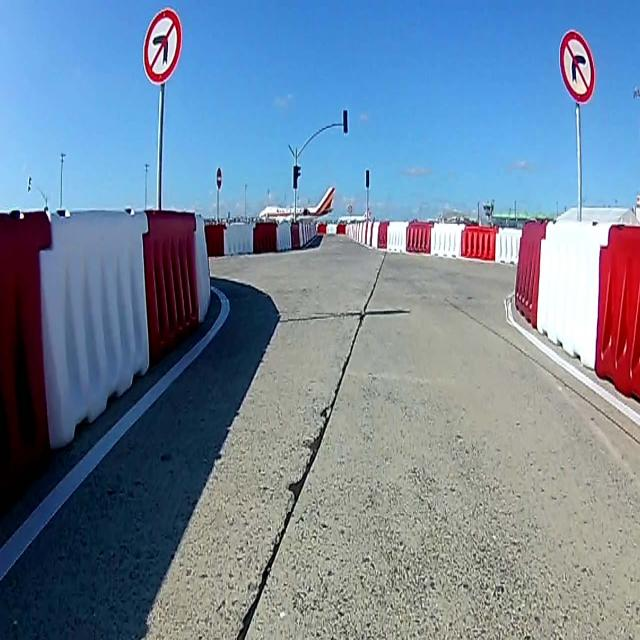sagadonulmez: (560, 33, 596, 100)
soladonulmez: (143, 8, 181, 80)
